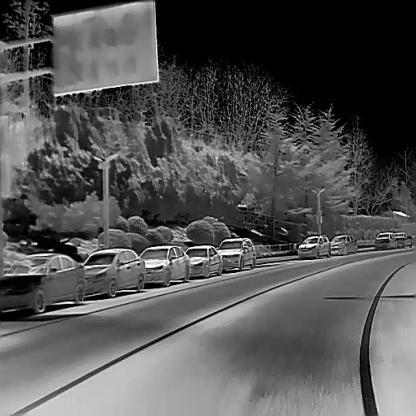car: (0, 251, 84, 309), (84, 247, 146, 296), (141, 245, 189, 287), (183, 244, 222, 278), (218, 236, 255, 269), (297, 234, 330, 258), (329, 234, 356, 254), (374, 232, 396, 249), (393, 232, 412, 248)
